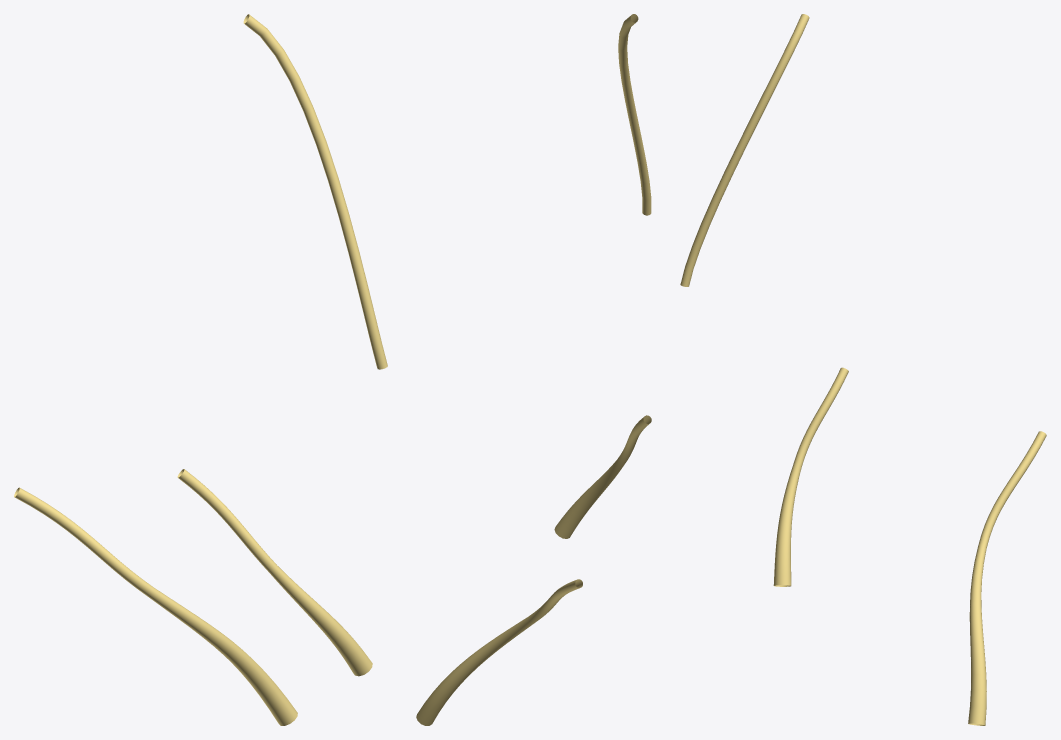
The picture shows the model from 3 angles, left to right: view 1: azimuth 30°, elevation 25°; view 2: azimuth 150°, elevation 25°; view 3: azimuth 270°, elevation 25°; orthographic projection. The views are drawn at different scales.
Visible parts, largest first — view 1: ZA_d53e1d5ecce05fd1; view 2: ZA_d53e1d5ecce05fd1; view 3: ZA_d53e1d5ecce05fd1.
Boxes of the visible parts, x1,y1,x2,y2 form: ZA_d53e1d5ecce05fd1: (14, 14, 387, 725); ZA_d53e1d5ecce05fd1: (416, 14, 651, 725); ZA_d53e1d5ecce05fd1: (680, 14, 1046, 725).
Bounding box in the file's own units: 0.0251 × 0.0817 × 0.0412.
